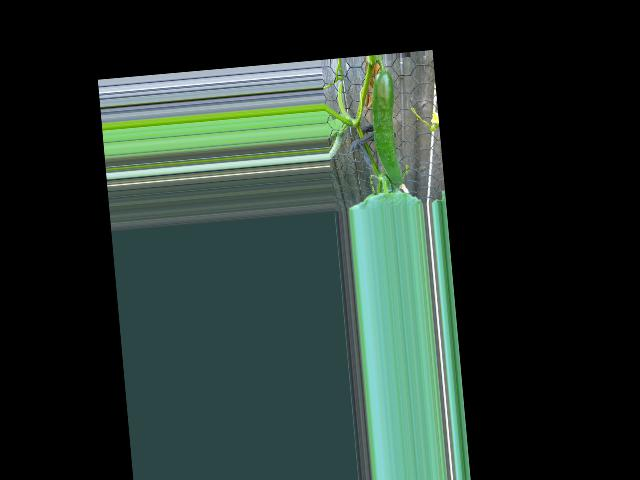cucumber: (367, 70, 403, 186)
